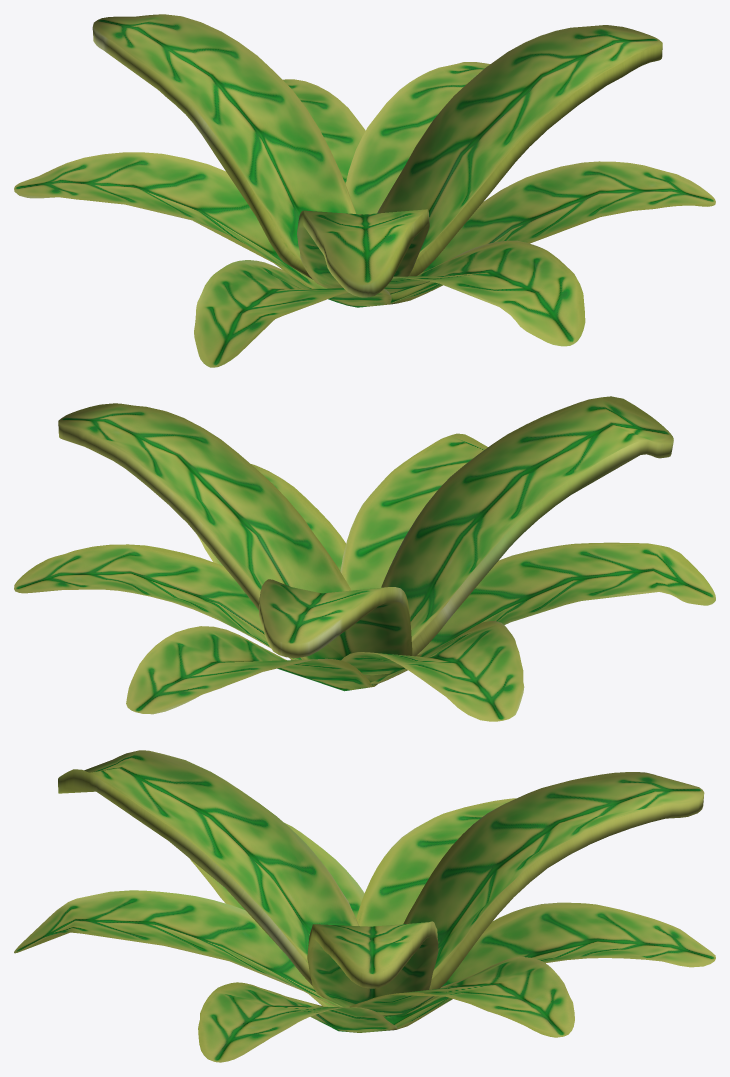
File: Matojo1.fbx
The picture shows the model from 3 angles, top to bottom: view 1: azimuth 30°, elevation 25°; view 2: azimuth 150°, elevation 25°; view 3: azimuth 270°, elevation 25°; orthographic projection.
Visible parts, largest first — view 1: Matojo1; view 2: Matojo1; view 3: Matojo1.
Boxes of the visible parts, <box> form: Matojo1: <box>14,14,715,367</box>; Matojo1: <box>14,396,715,721</box>; Matojo1: <box>14,750,715,1062</box>.
Size of the model in its own units: 64.94 by 23.3 by 72.27.
